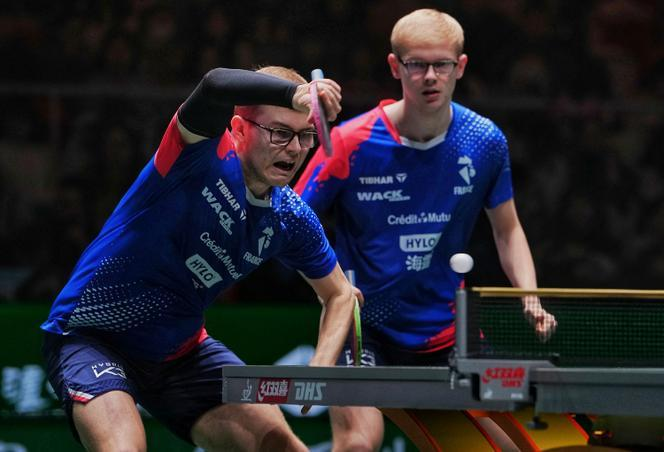ball_pingpong: (448, 252, 474, 274)
